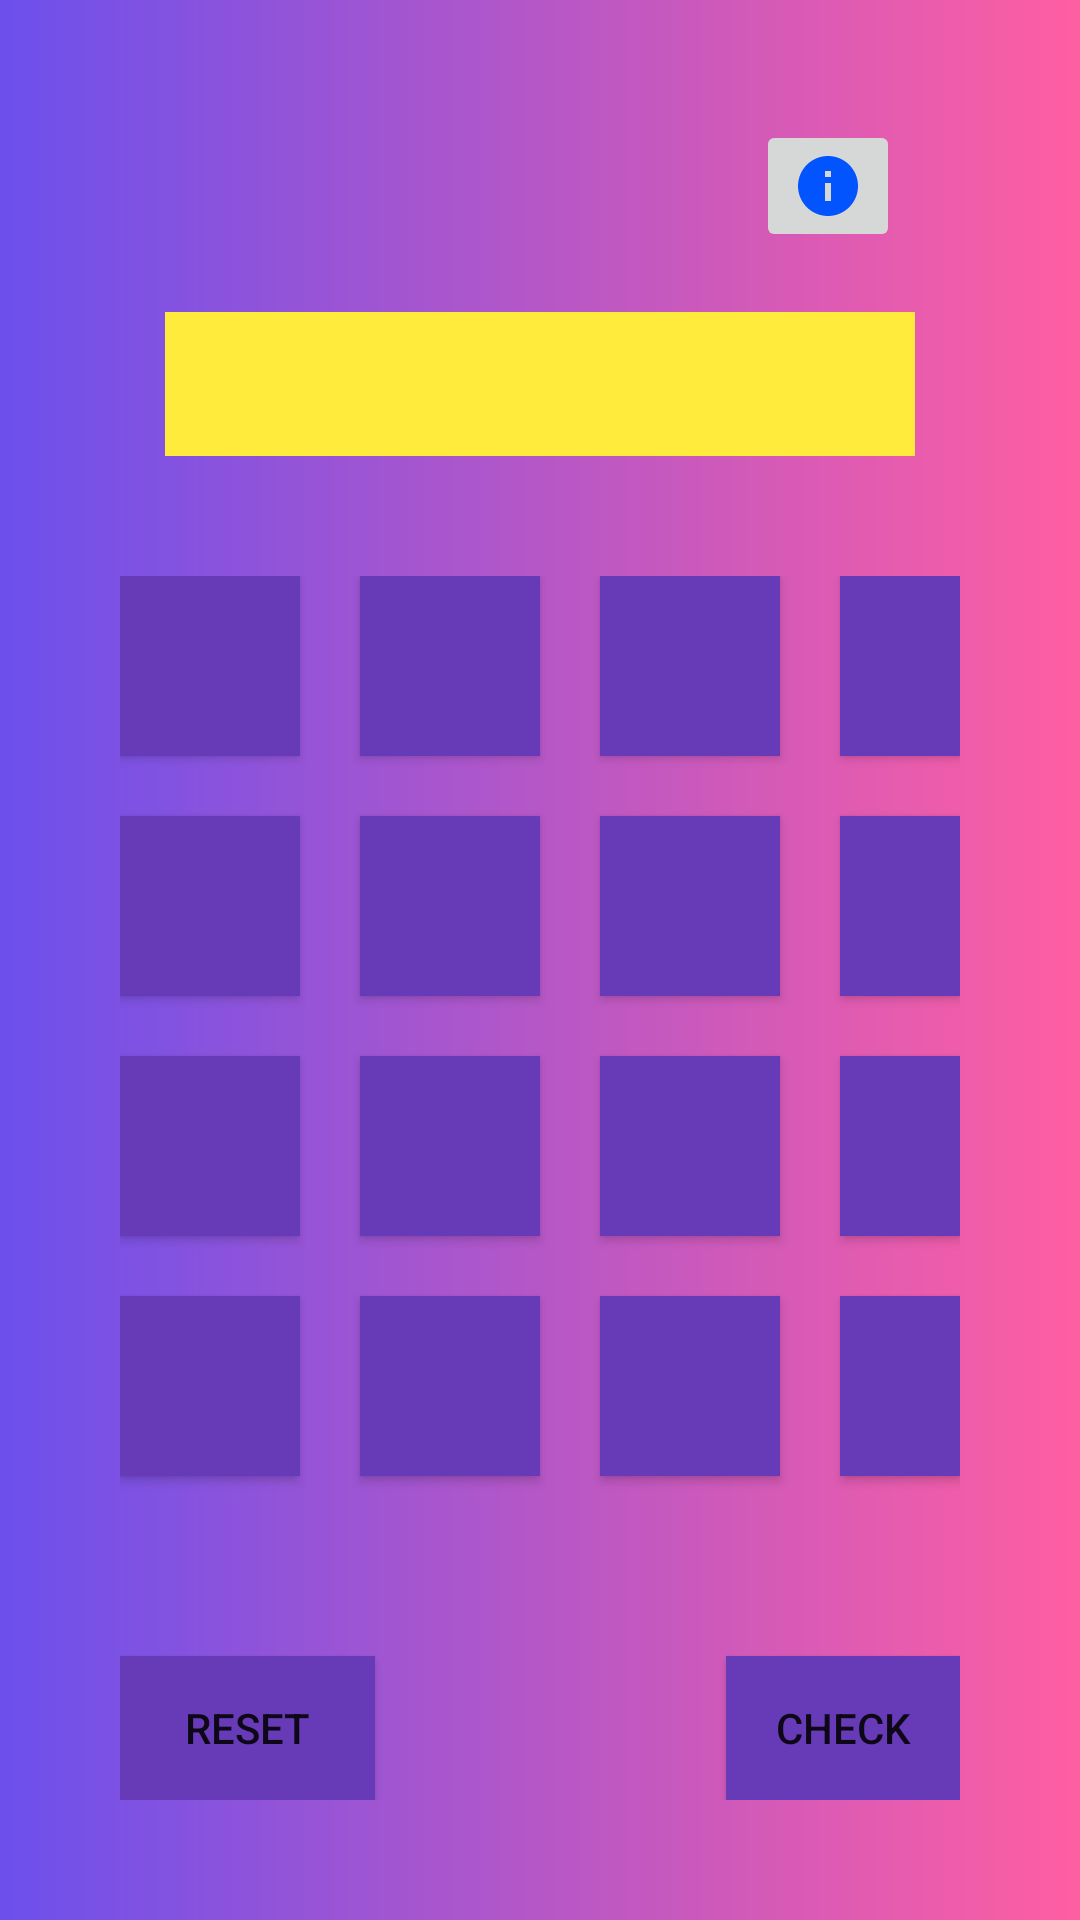

Icons on this 1080 x 1920 Android screen, each with the point to tap as [x,y]:
info: [828,186]
